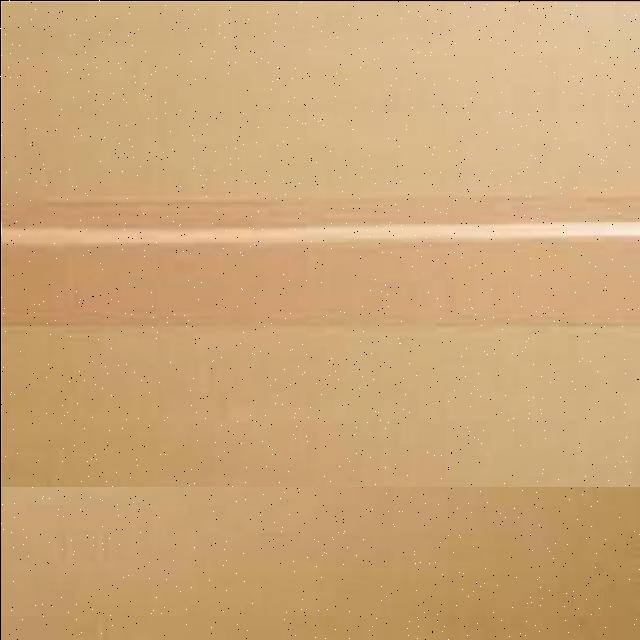normal: (1, 1, 640, 486)
